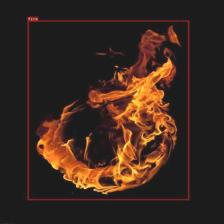fire: (28, 20, 189, 200)
